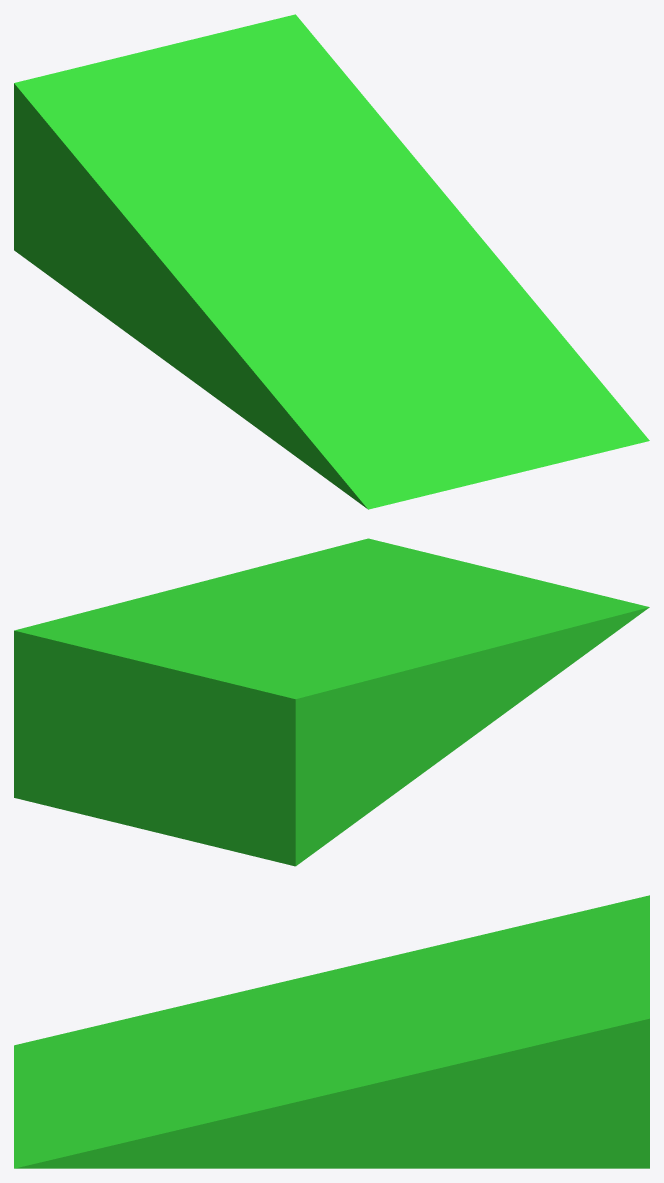
Rendered from Small Ramp.fbx.
3 views of the same model, one above another, from view 1: azimuth 30°, elevation 25°; view 2: azimuth 150°, elevation 25°; view 3: azimuth 270°, elevation 25° (orthographic). The views are drawn at different scales.
Visible parts, largest first — view 1: Cube -col; view 2: Cube -col; view 3: Cube -col.
Boxes of the visible parts, x1,y1,x2,y2 form: Cube -col: (14, 14, 649, 509); Cube -col: (14, 538, 649, 866); Cube -col: (14, 895, 649, 1168).
Bounding box in the file's own units: 200 × 113 × 436.
